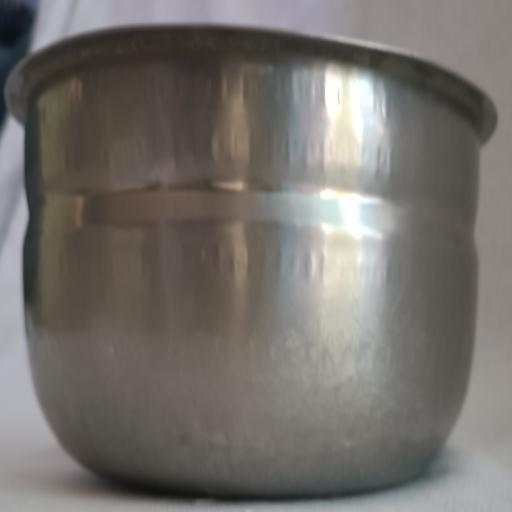vessel: (7, 27, 496, 497)
